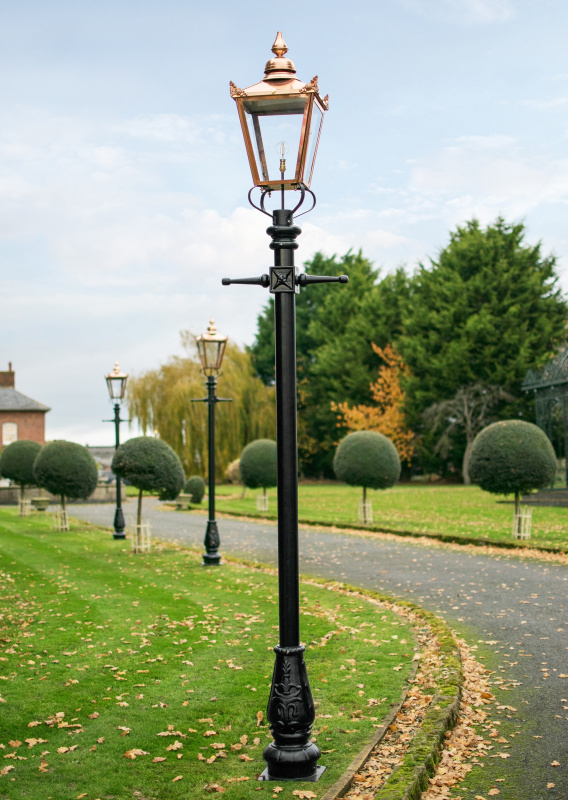Lamp: (225, 31, 359, 784), (185, 319, 248, 568), (96, 362, 145, 546)
Tree: (376, 217, 568, 488)
